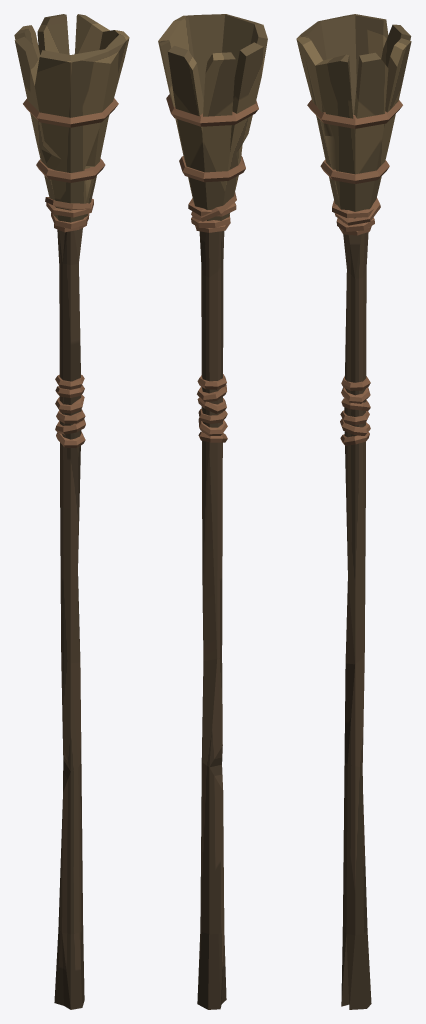
Rendered from SM_Prop_Tiki_Torch_02.fbx.
3 renders of one model, left to right at view 1: azimuth 90°, elevation 25°; view 2: azimuth 210°, elevation 25°; view 3: azimuth 270°, elevation 25°, orthographic.
Visible parts, largest first — view 1: SM_Prop_Tiki_Torch_02; view 2: SM_Prop_Tiki_Torch_02; view 3: SM_Prop_Tiki_Torch_02.
Part boxes in pixels (left/top/right/bottom): SM_Prop_Tiki_Torch_02: left=14, top=14, right=129, bottom=1009; SM_Prop_Tiki_Torch_02: left=158, top=14, right=267, bottom=1009; SM_Prop_Tiki_Torch_02: left=296, top=14, right=411, bottom=1009.
Size of the model in its own units: 24.75 by 231 by 24.87.
Materials: 1 (1 with a texture image).
